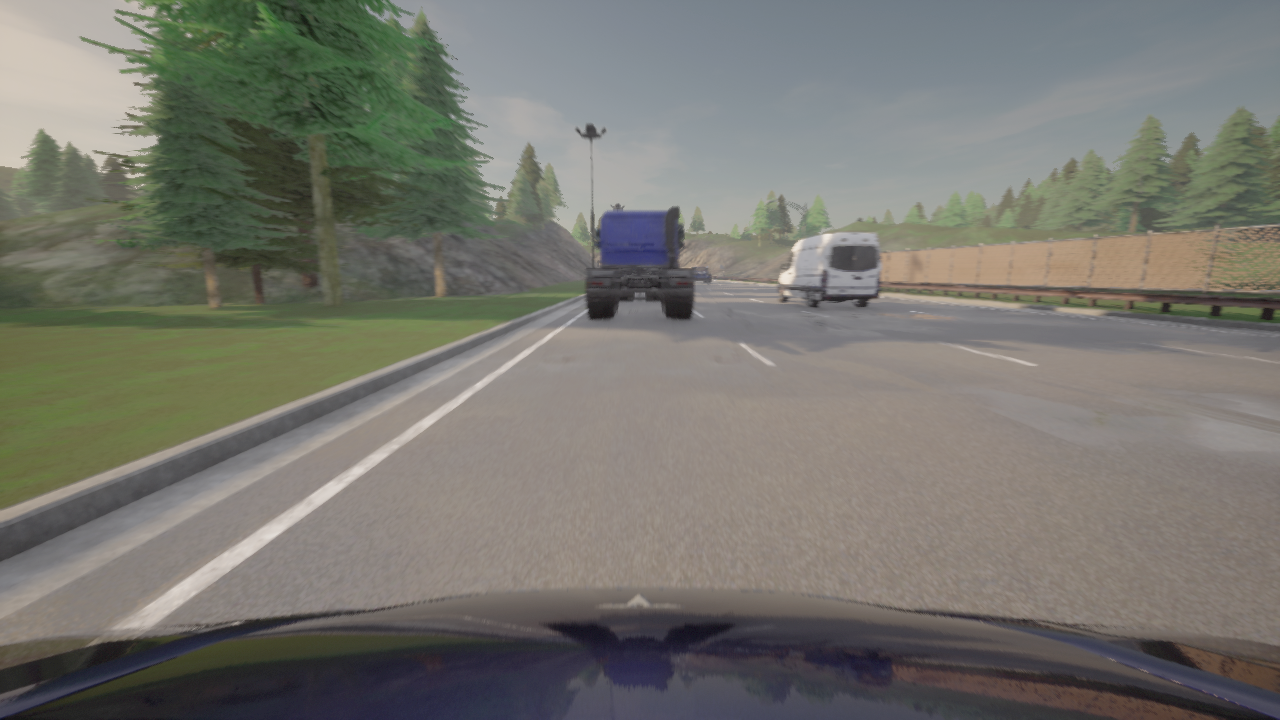cyclist: (0, 588, 1279, 719), (586, 207, 694, 318), (778, 232, 880, 307), (692, 266, 710, 283)
